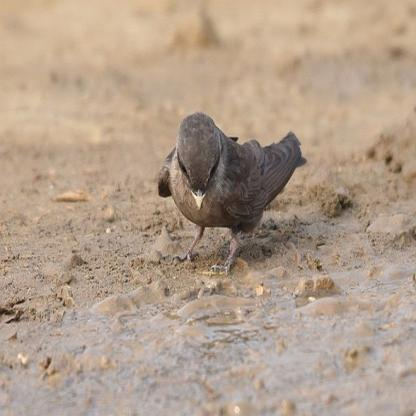Burung: (158, 111, 306, 278)
